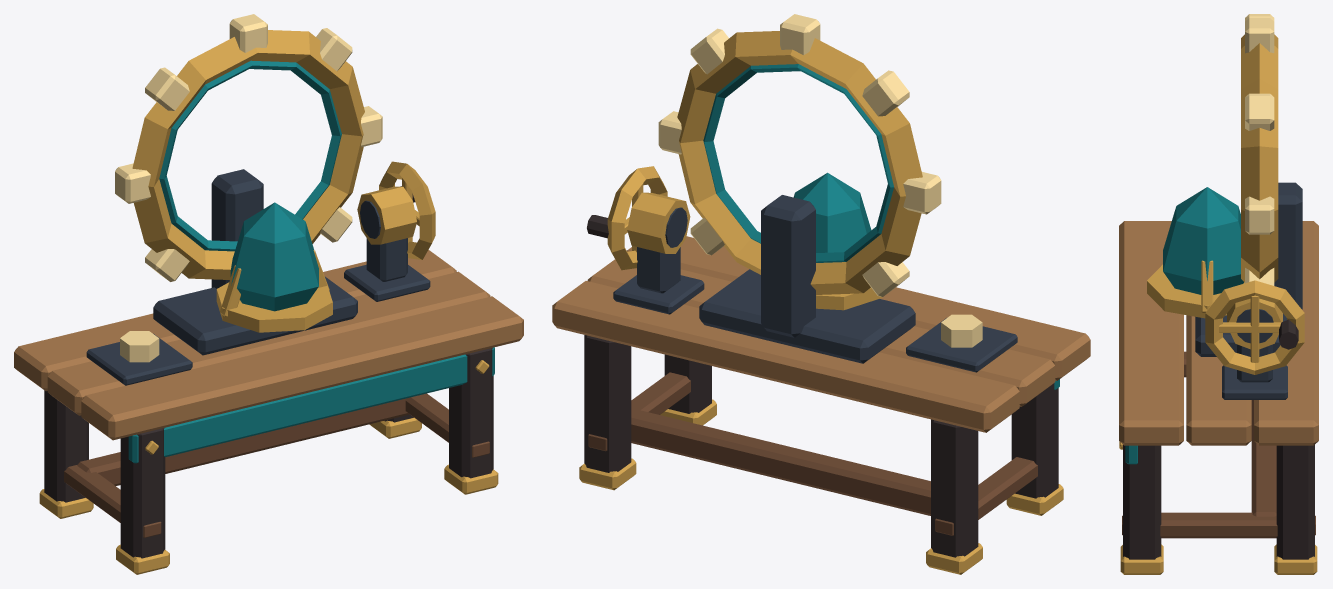
Rendered from 18_Upgrade_Station.glb.
3 renders of one model, left to right at view 1: azimuth 30°, elevation 25°; view 2: azimuth 150°, elevation 25°; view 3: azimuth 270°, elevation 25°, orthographic. The views are drawn at different scales.
Visible parts, largest first — view 1: 18_Upgrade_Station__Body; view 2: 18_Upgrade_Station__Body; view 3: 18_Upgrade_Station__Body.
Boxes of the visible parts, <box> form: 18_Upgrade_Station__Body: <box>14,14,523,574</box>; 18_Upgrade_Station__Body: <box>552,14,1090,574</box>; 18_Upgrade_Station__Body: <box>1119,14,1318,574</box>.
Bounding box in the file's own units: 4.15 × 4.43 × 1.72.
1 material, 1 textured.
